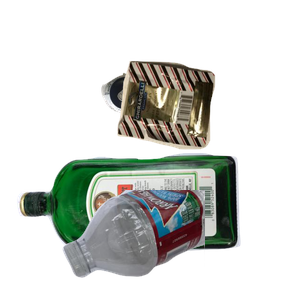glass: (14, 150, 247, 300)
metal: (99, 70, 236, 176)
plastic: (60, 190, 300, 280)
trash: (115, 58, 300, 200)
